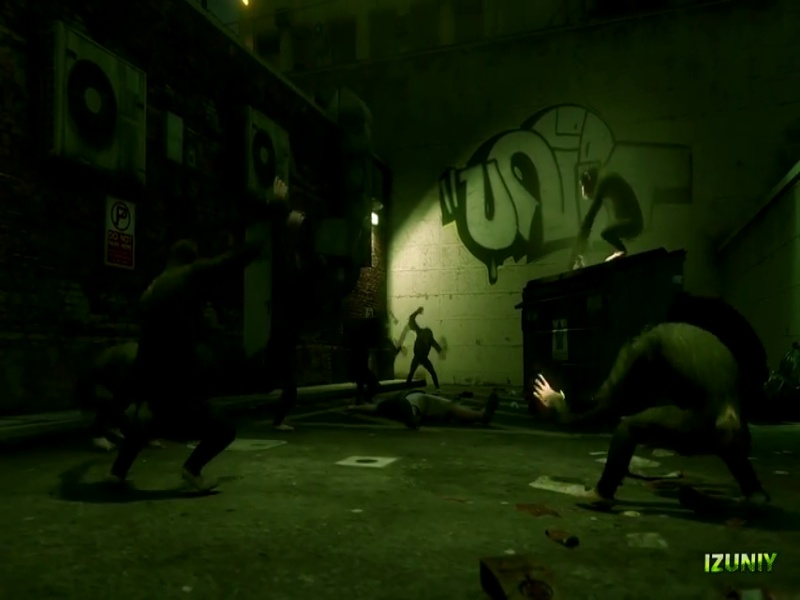human: (570, 293, 771, 517)
